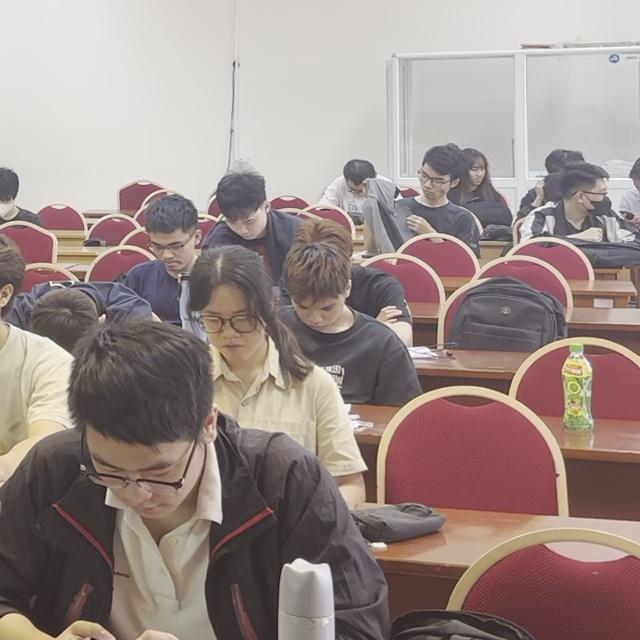Looking away: (203, 310, 260, 358), (154, 236, 187, 271), (570, 191, 608, 216), (423, 175, 446, 200)
Phone use: (1, 322, 392, 637)
